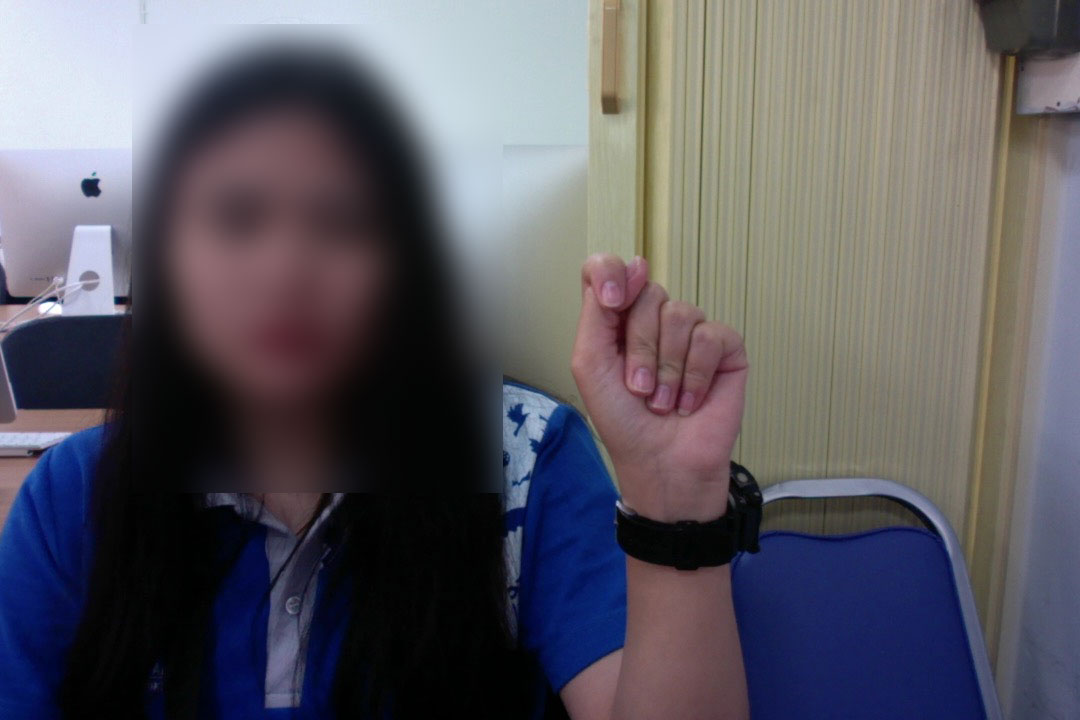tor: (555, 248, 756, 501)
